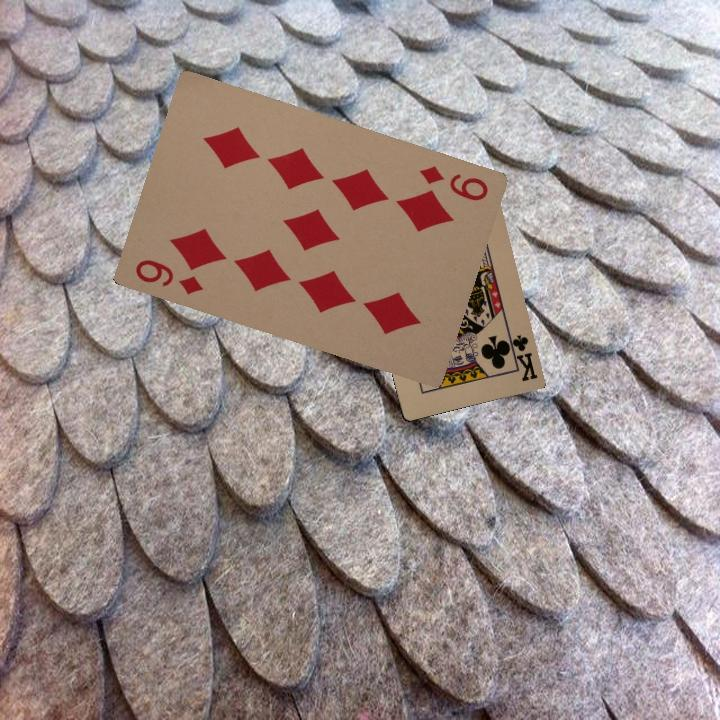9d: (415, 161, 491, 204), (131, 255, 206, 297)
Kc: (505, 330, 540, 384)
